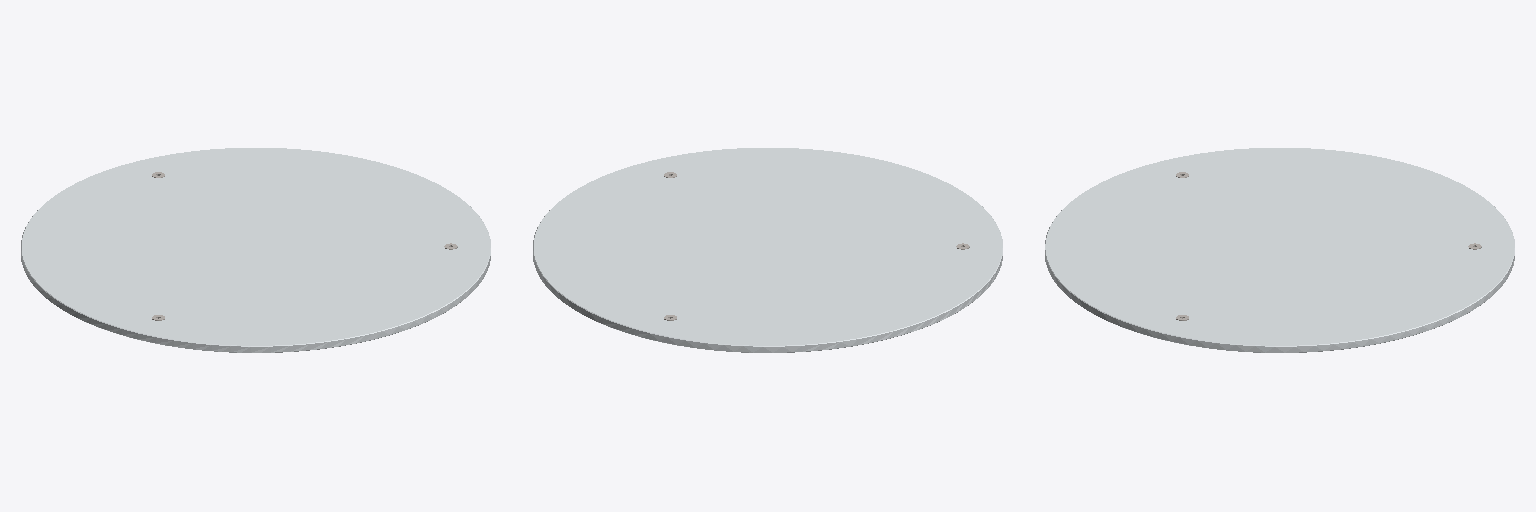
The model's file is top_plate_light.obj.
The picture shows the model from 3 angles: view 1: azimuth 30°, elevation 25°; view 2: azimuth 150°, elevation 25°; view 3: azimuth 270°, elevation 25°; orthographic projection.
Visible parts, largest first — view 1: Mtl1; view 2: Mtl1; view 3: Mtl1.
Boxes of the visible parts, x1=… form: Mtl1: x1=21, y1=148, x2=490, y2=352; Mtl1: x1=533, y1=148, x2=1002, y2=352; Mtl1: x1=1045, y1=148, x2=1514, y2=352.
Size of the model in its own units: 0.3499 by 0.016 by 0.35.